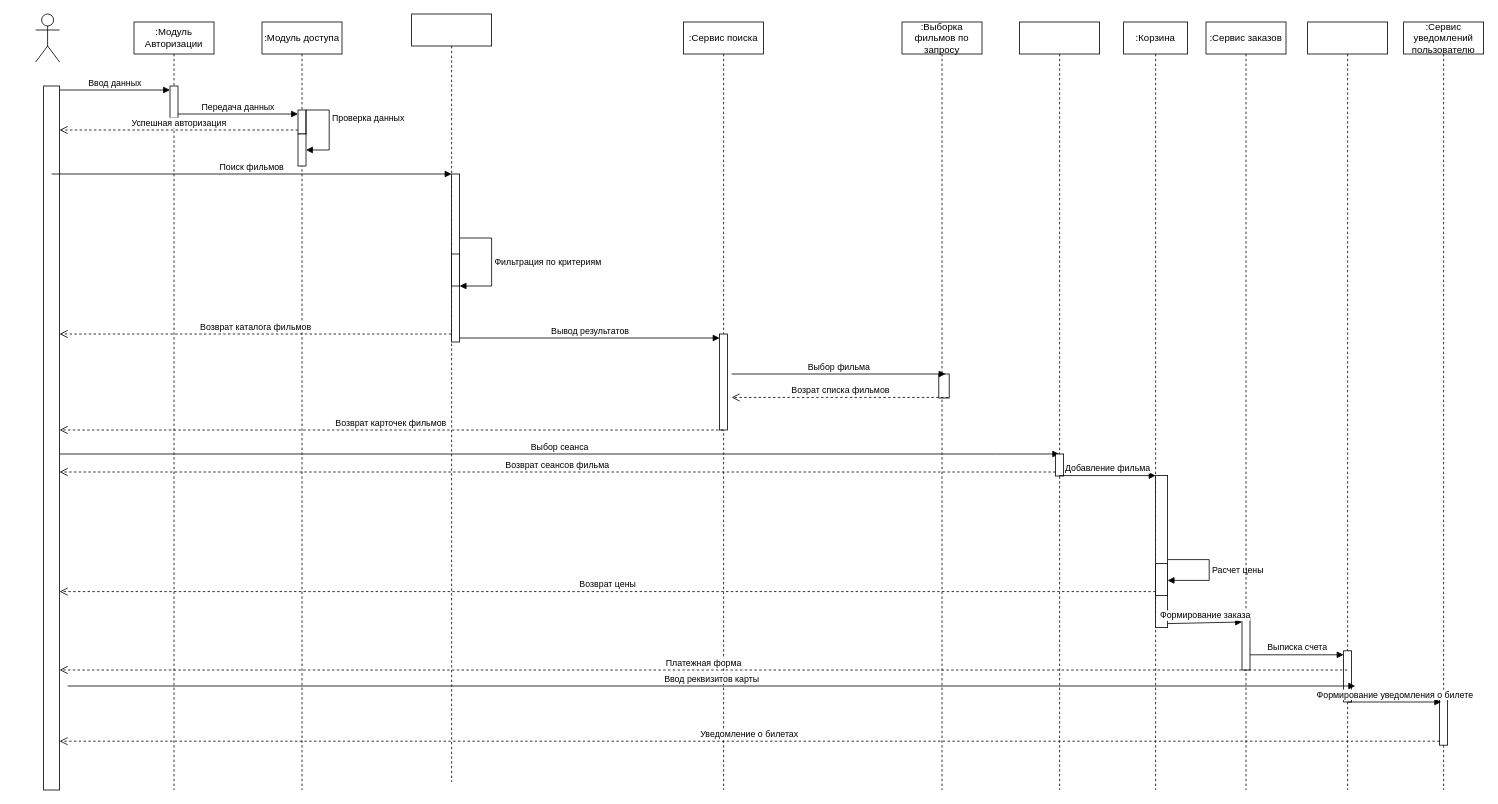
This 1498x804 diagram has some shape labels left out. The shapes that lost their labels are listed below. From the top down, each one's box as (x1, y1, x2, y2) in pixels, then its label:
(35, 13, 60, 62): : Пользователь
(411, 13, 492, 782): :Каталог фильмов
(1019, 21, 1100, 790): :Сервис выбора сеанса фильма
(1307, 21, 1388, 790): :Платежная система
